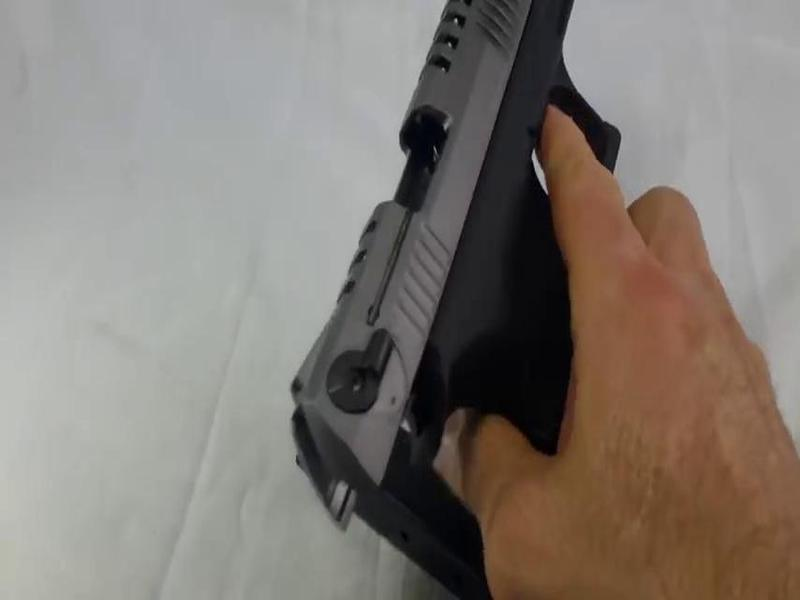Pistola: (293, 1, 648, 578)
